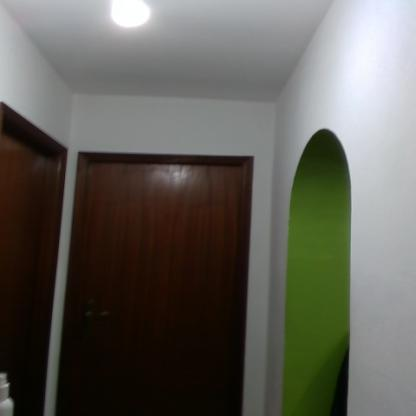door: (67, 154, 254, 415), (0, 118, 61, 415)
